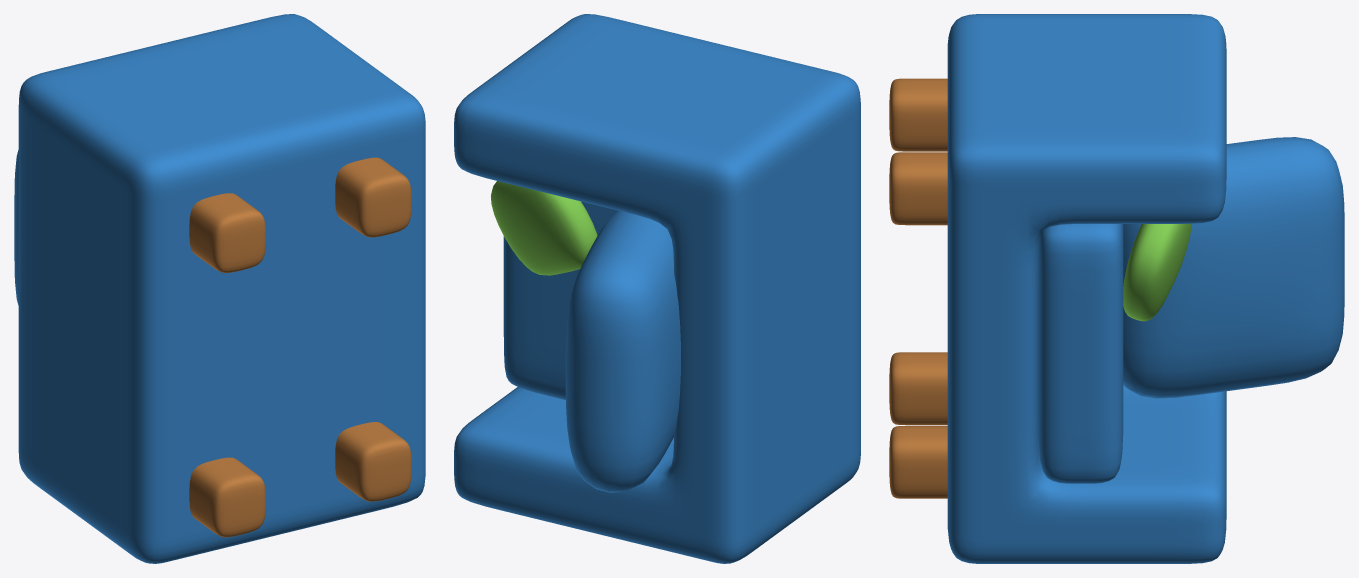
The model's file is armchair.obj.
3 views of the same model, side by side, from view 1: azimuth 30°, elevation 25°; view 2: azimuth 150°, elevation 25°; view 3: azimuth 270°, elevation 25° (orthographic). The views are drawn at different scales.
Parts seen in each view (by area): view 1: armchair; view 2: armchair; view 3: armchair.
Part boxes in pixels (bbox=[...]): armchair: bbox=[14, 14, 425, 563]; armchair: bbox=[454, 14, 860, 563]; armchair: bbox=[889, 14, 1344, 563].
Bounding box in the file's own units: 0.9 × 1.2 × 1.18.
